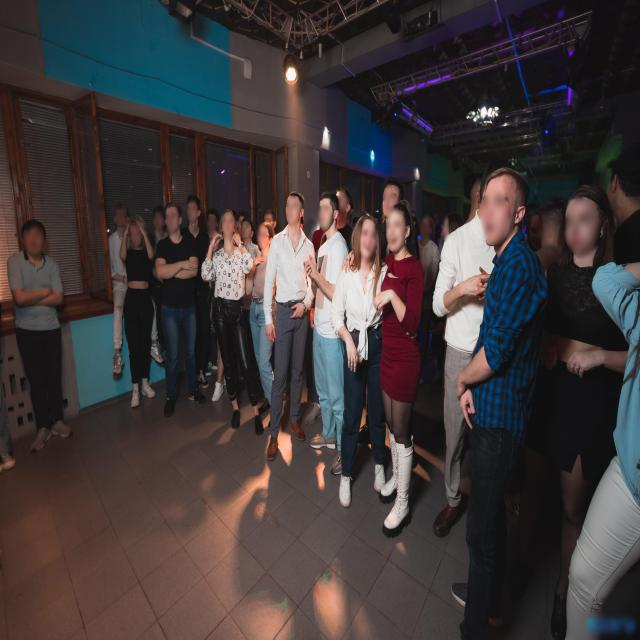Person: (437, 162, 543, 640), (536, 161, 627, 640), (369, 198, 430, 542), (9, 219, 78, 463), (334, 210, 388, 512), (263, 182, 317, 468), (304, 189, 347, 471), (120, 216, 162, 420), (222, 210, 254, 441), (156, 204, 190, 419), (243, 224, 273, 448), (107, 194, 139, 383), (147, 196, 169, 364), (376, 177, 406, 244), (460, 163, 482, 238), (182, 190, 207, 252), (415, 204, 439, 266), (335, 182, 360, 238), (438, 201, 458, 257), (204, 202, 220, 255), (239, 213, 258, 252)
